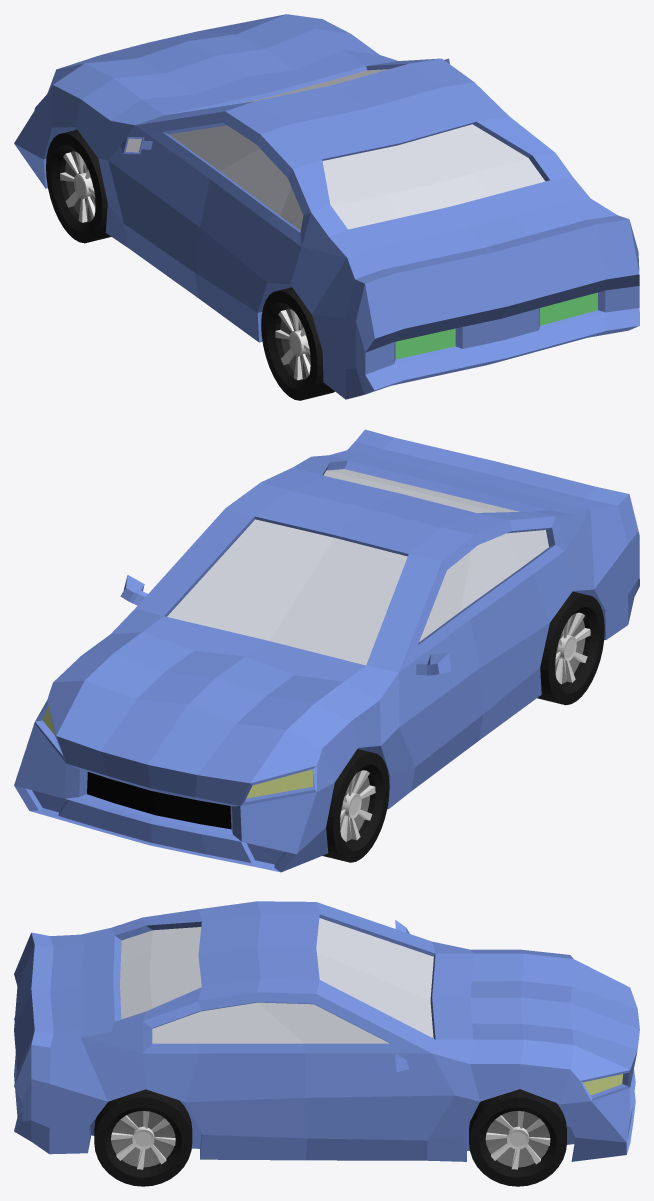
Rendered from PlayerCar.fbx.
The picture shows the model from 3 angles, top to bottom: view 1: azimuth 30°, elevation 25°; view 2: azimuth 150°, elevation 25°; view 3: azimuth 270°, elevation 25°; orthographic projection. The views are drawn at different scales.
Visible parts, largest first — view 1: Cube, Circle.002, Circle.003; view 2: Cube, Circle.002, Circle.003; view 3: Cube, Circle.001, Circle.
Boxes of the visible parts, box(x1,y1,x2,y2) form: Cube: box(14, 14, 639, 399); Circle.002: box(261, 287, 334, 400); Circle.003: box(46, 130, 111, 243); Cube: box(14, 429, 639, 872); Circle.002: box(537, 591, 604, 705); Circle.003: box(322, 749, 389, 862); Cube: box(14, 901, 639, 1161); Circle.001: box(94, 1089, 192, 1186); Circle: box(469, 1089, 566, 1186).
Bounding box in the file's own units: 233 × 140 × 442.
